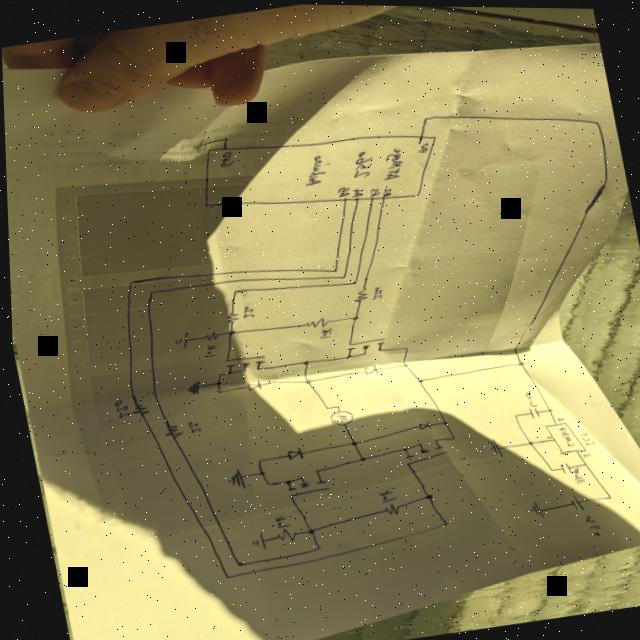capacitor: (524, 405, 537, 417), (557, 460, 570, 472)
diode: (281, 445, 304, 460), (241, 377, 262, 392), (359, 363, 379, 376), (414, 418, 431, 430)
ground: (222, 466, 246, 492), (484, 435, 503, 458), (245, 530, 266, 549), (170, 331, 190, 350), (524, 498, 542, 518), (183, 379, 201, 395), (189, 137, 206, 153)
junction: (231, 559, 244, 567), (224, 328, 236, 335), (303, 527, 314, 534), (514, 358, 525, 365), (592, 118, 603, 125), (422, 491, 432, 498), (300, 377, 311, 383), (145, 288, 156, 294), (398, 360, 409, 366), (356, 454, 365, 461), (347, 439, 357, 445), (422, 114, 432, 120), (126, 279, 136, 285), (524, 438, 533, 444), (311, 544, 320, 550), (255, 469, 264, 475), (438, 519, 447, 525), (349, 278, 358, 284), (221, 135, 230, 141), (446, 434, 456, 439), (400, 344, 410, 349), (299, 359, 308, 364), (543, 405, 552, 410), (349, 314, 358, 319), (212, 380, 221, 385), (414, 377, 423, 382), (221, 573, 230, 578), (231, 288, 240, 293), (261, 480, 270, 485), (337, 273, 346, 278), (252, 457, 261, 462), (331, 402, 340, 407), (439, 419, 447, 424), (603, 493, 611, 498), (578, 460, 586, 465), (545, 465, 553, 470), (330, 267, 338, 272), (510, 411, 517, 416), (215, 388, 222, 393), (321, 404, 328, 409), (215, 371, 222, 376)
resistor: (270, 524, 296, 543), (302, 315, 329, 328), (350, 285, 370, 302), (161, 421, 181, 438), (128, 401, 149, 416), (380, 501, 398, 515), (199, 329, 218, 342), (224, 310, 239, 322)
source: (565, 491, 583, 511)
text: (298, 152, 334, 186), (378, 144, 407, 179), (346, 148, 377, 179), (579, 511, 601, 537), (109, 396, 131, 419), (216, 148, 237, 168), (555, 423, 573, 446), (373, 486, 396, 503), (521, 387, 537, 407), (270, 513, 289, 529), (200, 342, 219, 357), (568, 464, 583, 483), (348, 184, 367, 198), (369, 283, 385, 299), (576, 428, 592, 444), (184, 419, 201, 433), (239, 304, 255, 318), (415, 139, 432, 152), (335, 184, 352, 197), (315, 326, 333, 338), (379, 185, 394, 197), (366, 185, 381, 197), (579, 450, 590, 457), (542, 432, 553, 437), (554, 414, 563, 419)
transistor: (279, 464, 330, 498), (397, 435, 447, 466), (220, 351, 266, 374), (342, 335, 388, 357)
